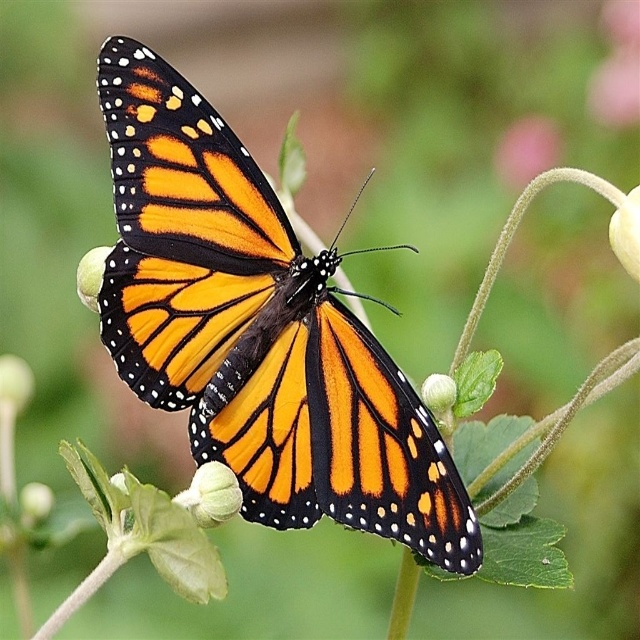Butterfly: (96, 35, 484, 573)
